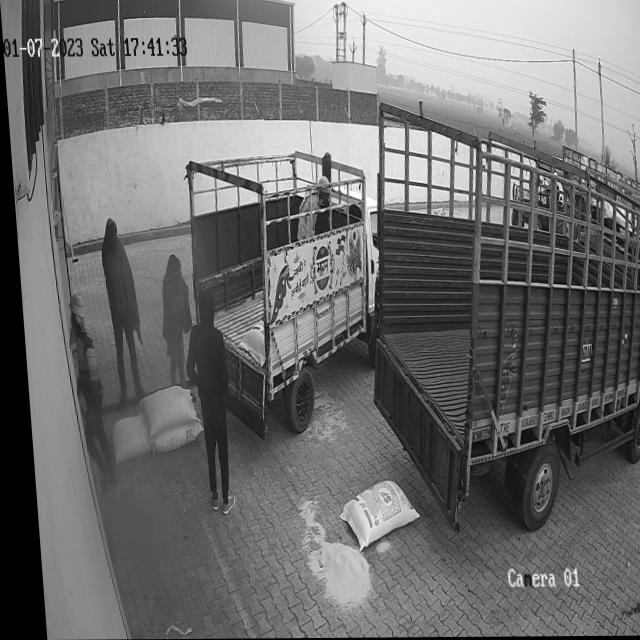sack: (331, 479, 413, 553), (132, 386, 191, 434), (104, 413, 145, 466), (146, 422, 198, 454)
